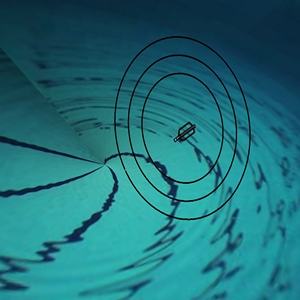circle: (110, 30, 257, 229)
submarine: (165, 109, 204, 148)
